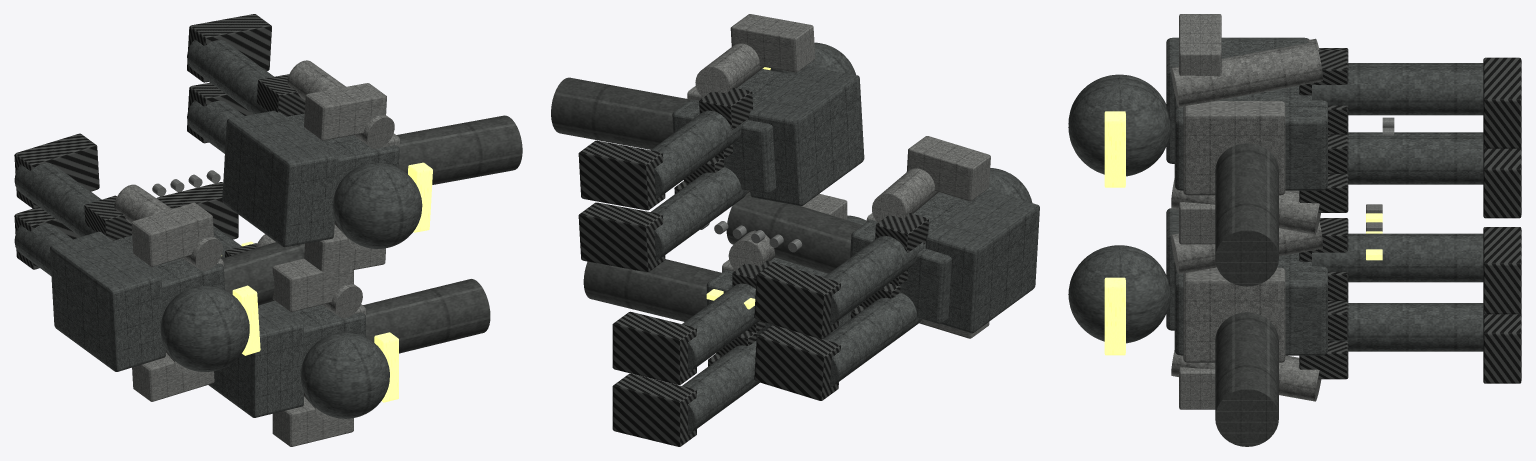
File: c-u03-rocket-soldier-lod0.glb
3 views of the same model, side by side, from view 1: azimuth 30°, elevation 25°; view 2: azimuth 150°, elevation 25°; view 3: azimuth 270°, elevation 25° (orthographic). The views are drawn at different scales.
Visible parts, largest first — view 1: soldier_0_backpack, soldier_2_backpack, soldier_1_backpack, soldier_1_launcher, soldier_0_launcher, soldier_2_helmet, soldier_1_helmet, soldier_0_helmet, soldier_2_shoulder_1, soldier_0_shoulder_1, soldier_2_leg_1, soldier_0_leg_1 (+23 smaller); view 2: soldier_0_backpack, soldier_2_backpack, soldier_0_launcher, soldier_2_launcher, soldier_1_launcher, soldier_2_boot_1, soldier_1_boot_1, soldier_1_boot_-1, soldier_2_boot_-1, soldier_0_boot_-1, soldier_0_boot_1, soldier_2_torso (+19 smaller); view 3: soldier_0_launcher, soldier_1_launcher, soldier_0_leg_1, soldier_1_leg_1, soldier_0_chest, soldier_1_leg_-1, soldier_0_leg_-1, soldier_0_helmet, soldier_1_helmet, soldier_1_chest, soldier_0_arm_1, soldier_0_torso (+25 smaller).
Boxes of the visible parts, box(x1,y1,x2,y2) form: soldier_0_backpack: box(222, 110, 338, 247); soldier_2_backpack: box(50, 231, 165, 371); soldier_1_backpack: box(208, 301, 303, 417); soldier_1_launcher: box(363, 279, 490, 353); soldier_0_launcher: box(396, 115, 522, 184); soldier_2_helmet: box(160, 285, 249, 371); soldier_1_helmet: box(300, 332, 389, 418); soldier_0_helmet: box(333, 163, 422, 248); soldier_2_shoulder_1: box(131, 202, 213, 266); soldier_0_shoulder_1: box(304, 83, 386, 140); soldier_2_leg_1: box(14, 163, 101, 236); soldier_0_leg_1: box(187, 39, 273, 114); soldier_0_backpack: box(748, 66, 864, 206); soldier_2_backpack: box(925, 190, 1039, 333); soldier_0_launcher: box(551, 77, 687, 149); soldier_2_launcher: box(726, 192, 862, 273); soldier_1_launcher: box(583, 259, 720, 321); soldier_2_boot_1: box(754, 262, 840, 339); soldier_1_boot_1: box(612, 311, 696, 384); soldier_1_boot_-1: box(612, 373, 696, 446); soldier_2_boot_-1: box(754, 325, 840, 400); soldier_0_boot_-1: box(578, 202, 665, 272); soldier_0_boot_1: box(578, 140, 665, 210); soldier_2_torso: box(850, 192, 972, 323); soldier_0_launcher: box(1215, 143, 1278, 286); soldier_1_launcher: box(1215, 312, 1278, 446); soldier_0_leg_1: box(1312, 66, 1483, 115); soldier_1_leg_1: box(1312, 233, 1483, 282); soldier_0_chest: box(1183, 101, 1285, 195); soldier_1_leg_-1: box(1328, 303, 1483, 351); soldier_0_leg_-1: box(1328, 136, 1483, 184); soldier_0_helmet: box(1068, 78, 1170, 176); soldier_1_helmet: box(1068, 245, 1170, 343); soldier_1_chest: box(1183, 267, 1285, 362); soldier_0_arm_1: box(1171, 41, 1322, 107); soldier_0_torso: box(1174, 85, 1327, 190).
Size of what is drawn, in the model's own units: 2.69 by 1.97 by 2.13.
6 materials, 6 textured.
